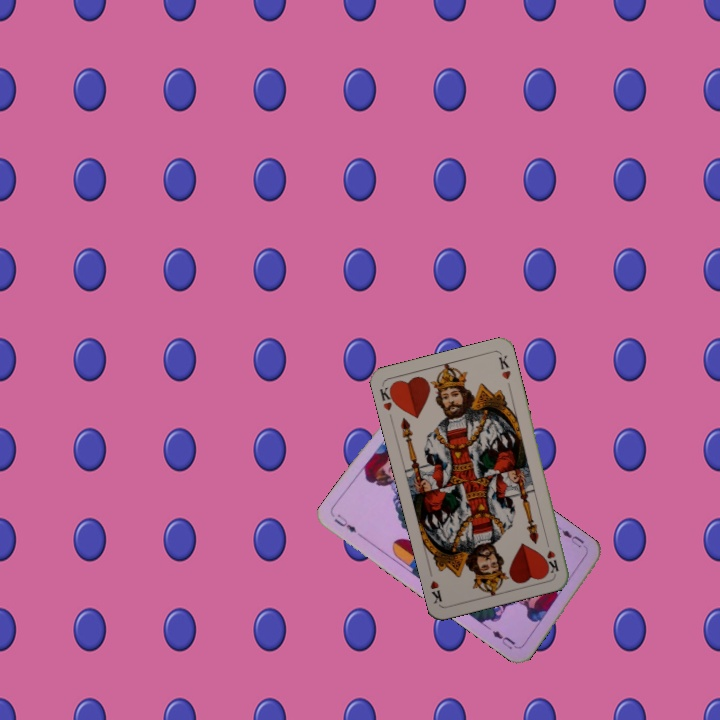EU: (558, 526, 590, 552), (330, 510, 359, 535)
HK: (542, 535, 561, 576), (375, 381, 399, 413)
